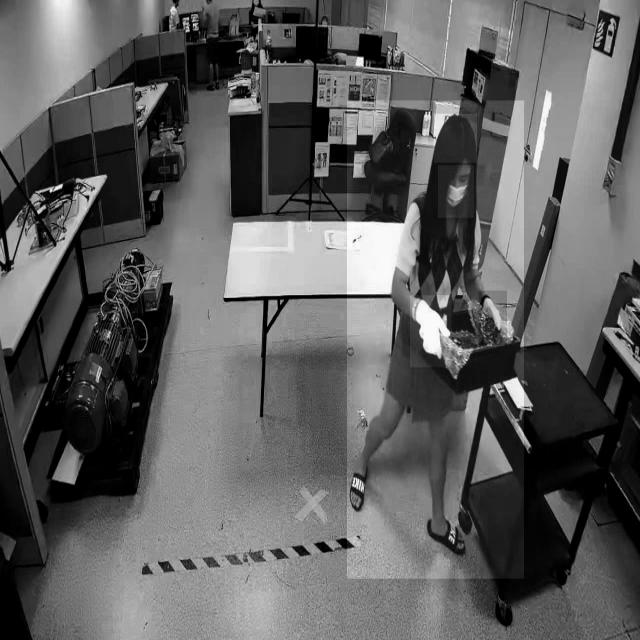face_mask: (438, 165, 474, 218)
hand_glove: (410, 295, 452, 367), (479, 291, 507, 345)
head_nohelmet: (433, 114, 477, 164)
person: (346, 100, 524, 580)
